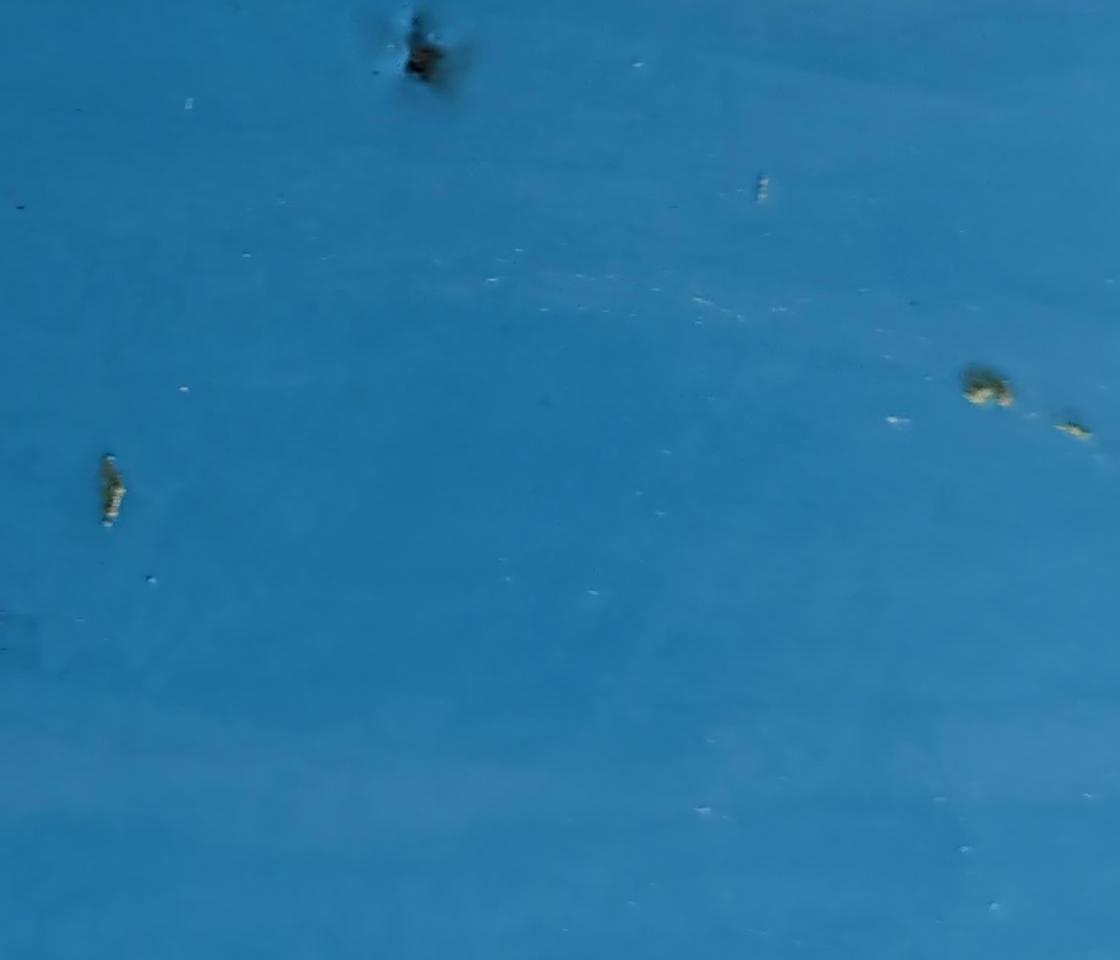paint_peel: (947, 362, 1022, 408), (94, 453, 134, 538)
